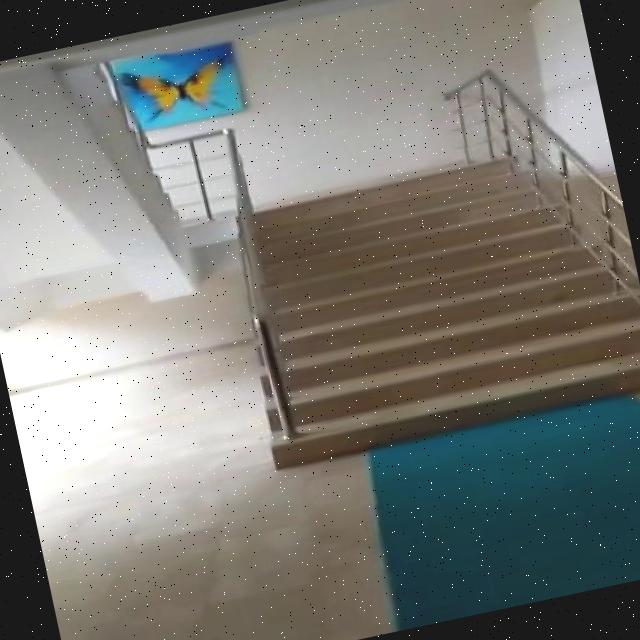stairs: (219, 133, 640, 468)
